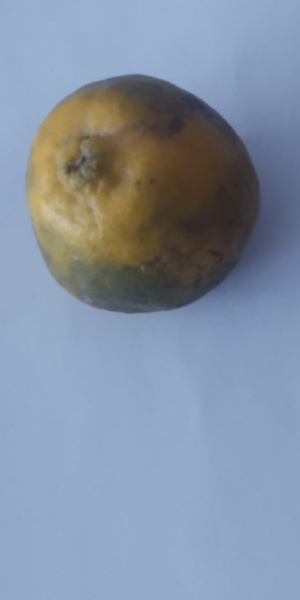BAD: (21, 71, 263, 317)
